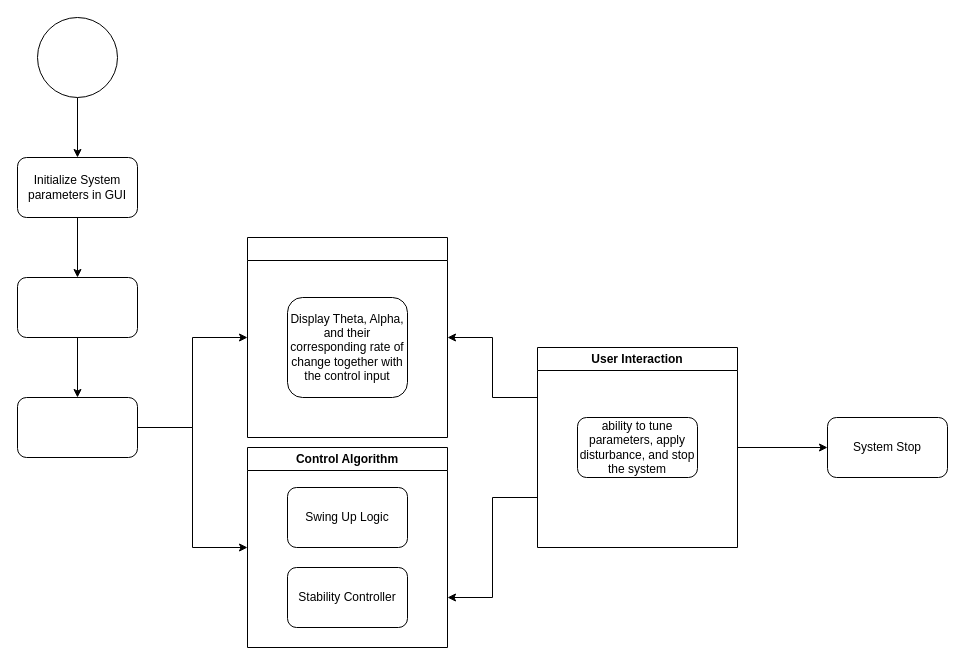
Image size: 965x665. Some labels were removed from this diagram. Here are the shapes that lost their labels. From the top down, the box of each, then its label:
(36, 16, 118, 98): GUI Start
(16, 276, 138, 338): Initialize The Controller Parameters
(246, 236, 448, 438): Visualization
(16, 396, 138, 458): System Start
